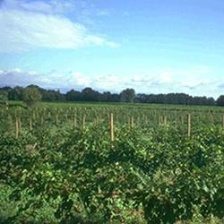neutral: (1, 9, 224, 221)
